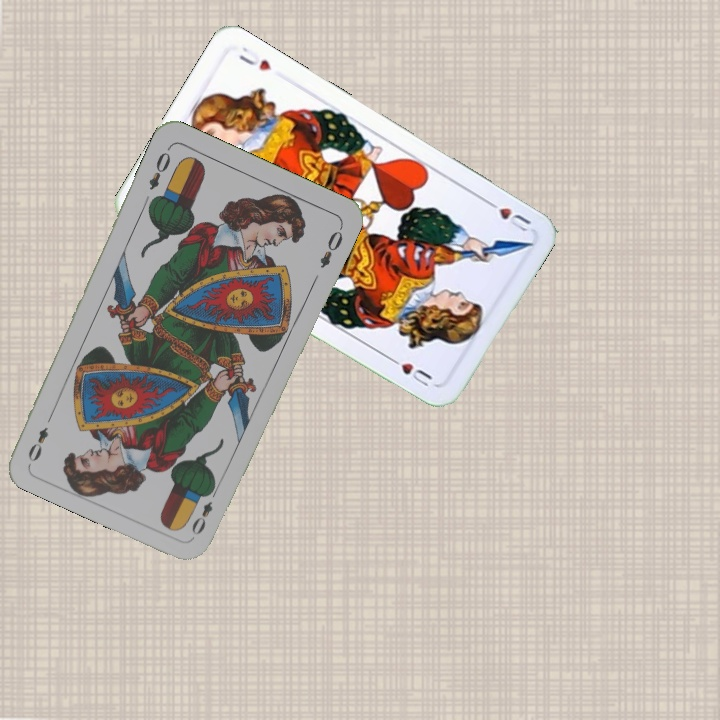EO: (187, 483, 221, 538), (144, 147, 174, 193)
HU: (481, 195, 534, 235)
